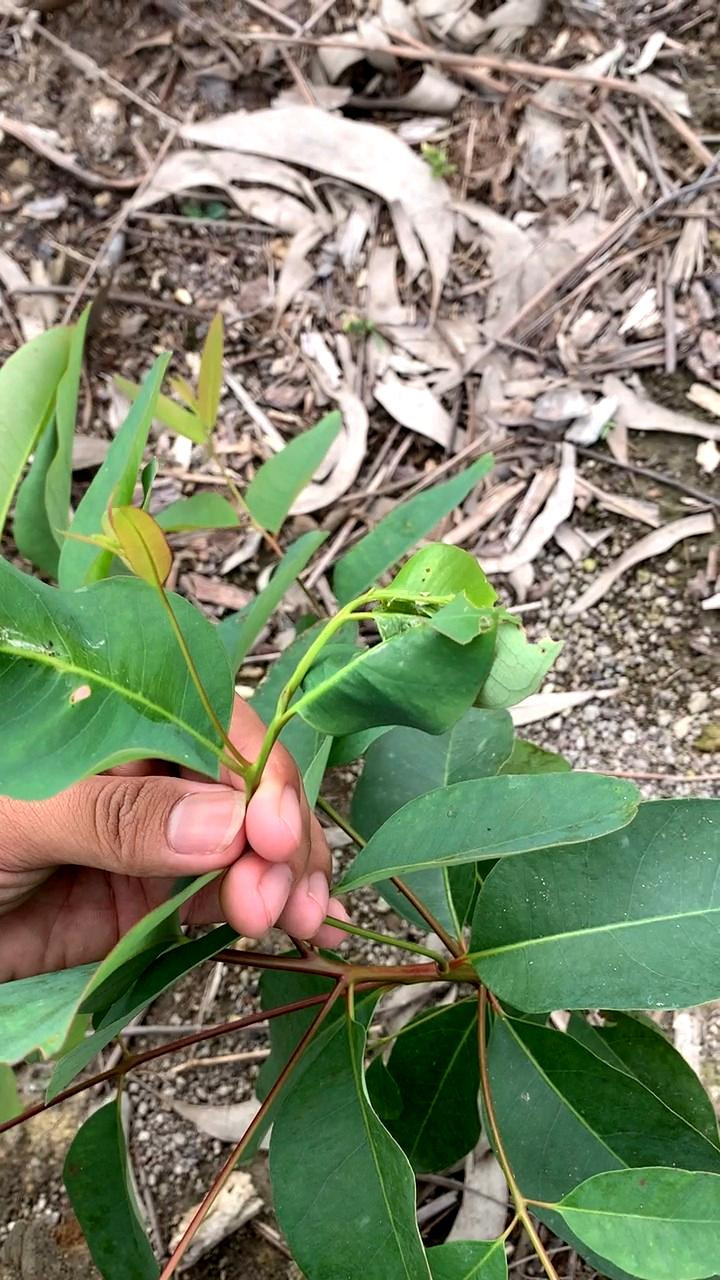Leaf Roller - Leaf: (276, 548, 565, 749)
